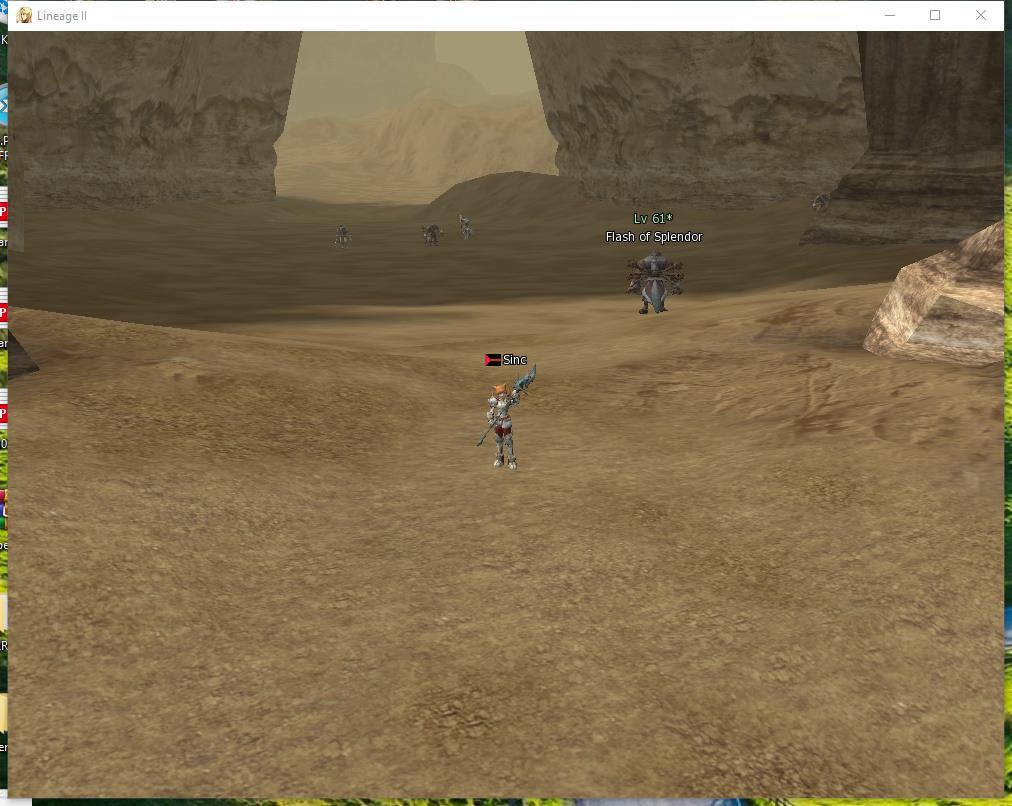monster: (602, 206, 694, 314), (454, 206, 484, 250), (424, 218, 446, 242), (339, 220, 354, 244)
